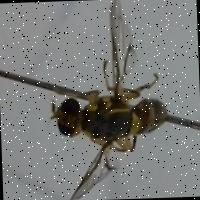Oriental-fruit-fly: (36, 0, 183, 200)
